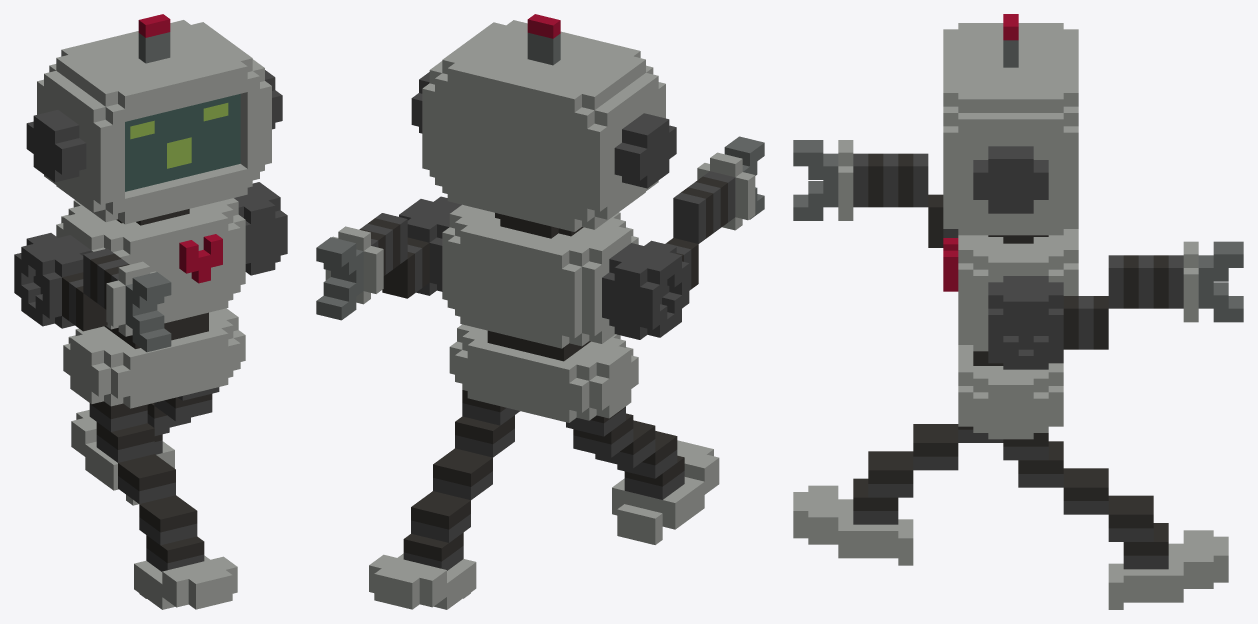
File: player_main_jump-rest_0.fbx
3 renders of one model, left to right at view 1: azimuth 30°, elevation 25°; view 2: azimuth 150°, elevation 25°; view 3: azimuth 270°, elevation 25°, orthographic. The views are drawn at different scales.
Visible parts, largest first — view 1: model_3; view 2: model_3; view 3: model_3.
Part boxes in pixels (bbox=[...]): model_3: bbox=[14, 14, 287, 609]; model_3: bbox=[316, 14, 764, 609]; model_3: bbox=[793, 14, 1243, 609].
Size of the model in its own units: 200 by 300 by 410.
